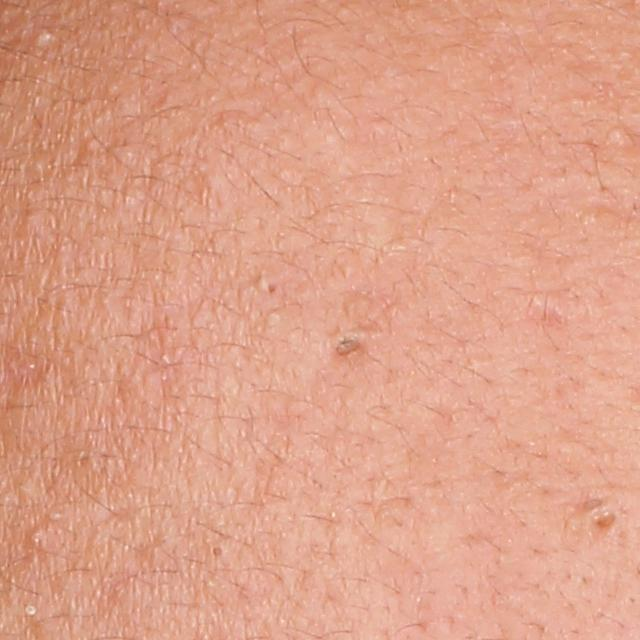atrophic_scar: (590, 510, 621, 537), (582, 496, 608, 513)
comedo: (331, 330, 372, 365), (193, 164, 232, 198), (30, 23, 56, 56), (253, 276, 278, 298), (26, 531, 45, 550), (209, 540, 227, 560)
